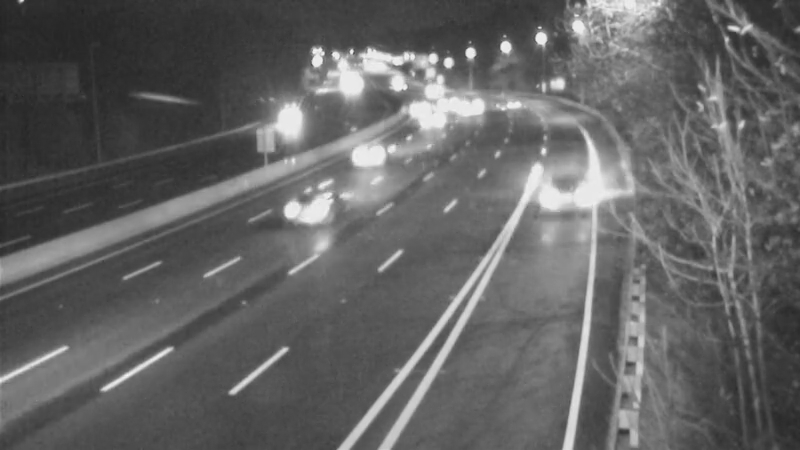vehicle: (329, 112, 409, 192), (527, 158, 607, 238), (274, 171, 354, 251), (406, 61, 456, 111), (418, 80, 468, 130), (443, 84, 493, 134), (384, 80, 434, 130), (492, 77, 542, 127), (406, 94, 456, 144), (254, 103, 304, 153)
